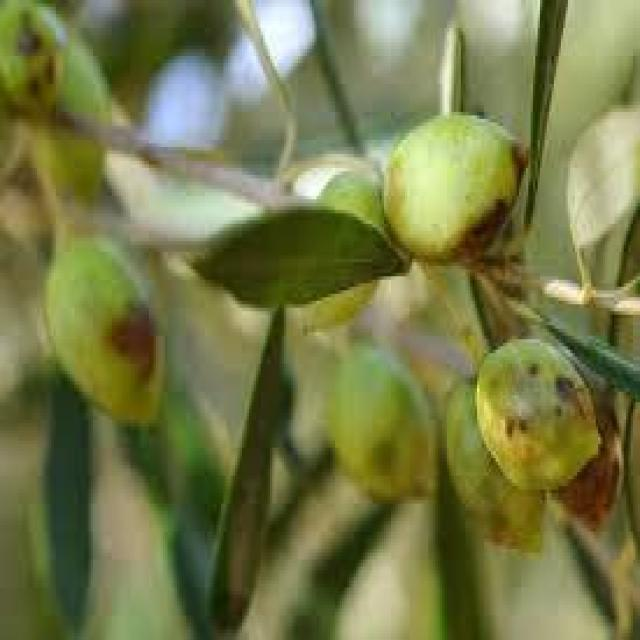Anthracnose: (384, 111, 510, 272), (46, 238, 154, 420), (477, 332, 595, 490)
